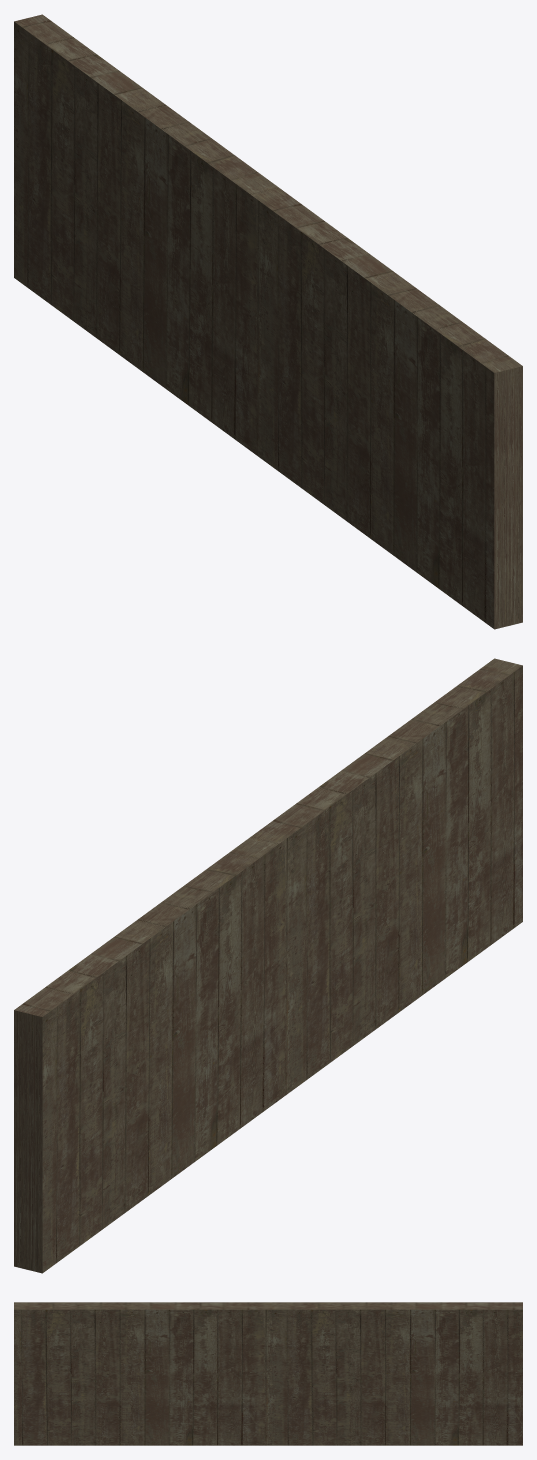
File: Fence.fbx
3 views of the same model, one above another, from view 1: azimuth 30°, elevation 25°; view 2: azimuth 150°, elevation 25°; view 3: azimuth 270°, elevation 25° (orthographic). The views are drawn at different scales.
Visible parts, largest first — view 1: Fence_Baked; view 2: Fence_Baked; view 3: Fence_Baked.
Part boxes in pixels (x1,y1,x2,y2): Fence_Baked: [14, 14, 522, 629]; Fence_Baked: [14, 658, 522, 1273]; Fence_Baked: [14, 1302, 522, 1445].
Bounding box in the file's own units: 54.88 × 471 × 1600.
Materials: 1 (1 with a texture image).
